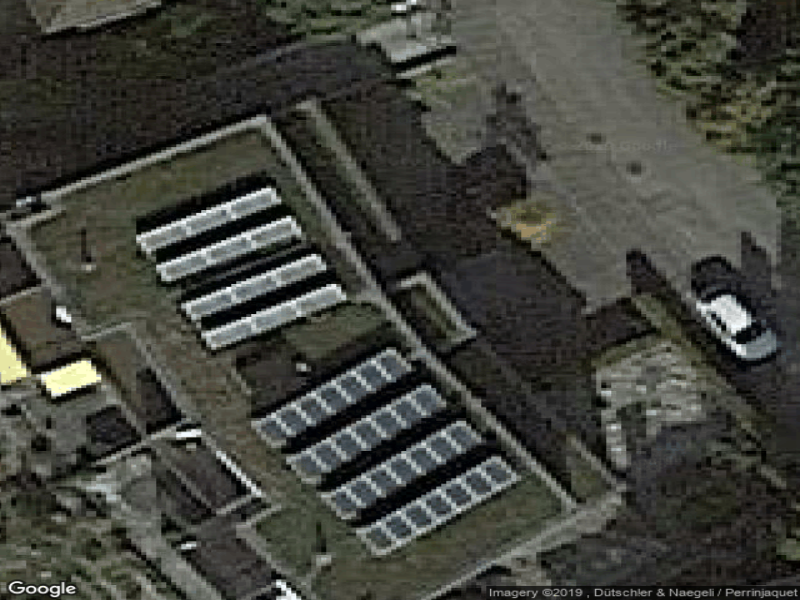pv: (137, 186, 522, 560)
